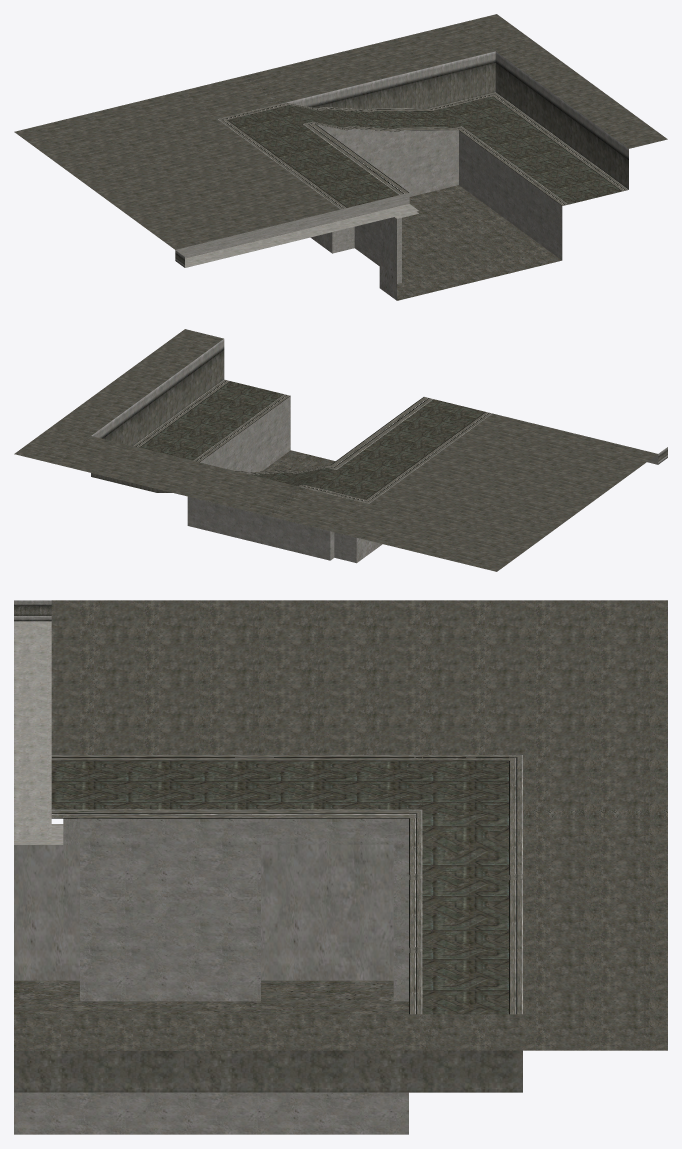
Rendered from DWARF_PALACE_GEAR_ROOM_FLOORA.fbx.
The picture shows the model from 3 angles, top to bottom: view 1: azimuth 30°, elevation 25°; view 2: azimuth 150°, elevation 25°; view 3: azimuth 270°, elevation 25°; orthographic projection. The views are drawn at different scales.
Visible parts, largest first — view 1: DWARF_PALACE_GEAR_ROOM_FLOORA; view 2: DWARF_PALACE_GEAR_ROOM_FLOORA; view 3: DWARF_PALACE_GEAR_ROOM_FLOORA.
Part boxes in pixels (bbox=[...]): DWARF_PALACE_GEAR_ROOM_FLOORA: bbox=[14, 14, 667, 300]; DWARF_PALACE_GEAR_ROOM_FLOORA: bbox=[14, 329, 667, 571]; DWARF_PALACE_GEAR_ROOM_FLOORA: bbox=[14, 600, 667, 1134].
Bounding box in the file's own units: 370025 × 70060 × 227025.
7 materials, 7 textured.
